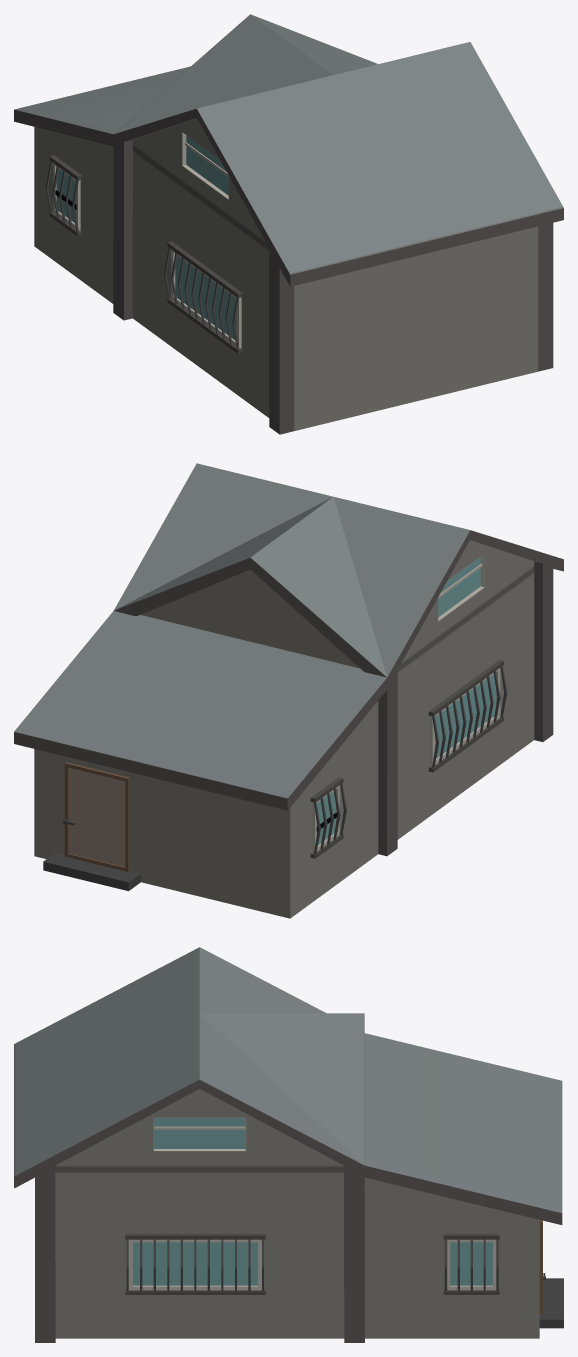
File: ghetto_building_03.fbx
3 renders of one model, top to bottom at view 1: azimuth 30°, elevation 25°; view 2: azimuth 150°, elevation 25°; view 3: azimuth 270°, elevation 25°, orthographic.
Parts seen in each view (by area): view 1: Cube.010; view 2: Cube.010; view 3: Cube.010.
Part boxes in pixels (x1=…): Cube.010: x1=14, y1=14, x2=563, y2=434; Cube.010: x1=14, y1=463, x2=563, y2=918; Cube.010: x1=14, y1=947, x2=563, y2=1342.
Size of the model in its own units: 858 by 794 by 1503.
